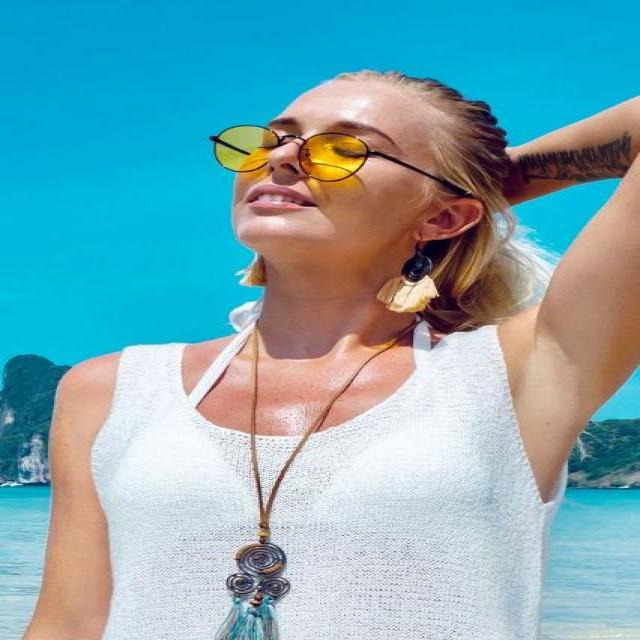glasses: (212, 124, 380, 184)
